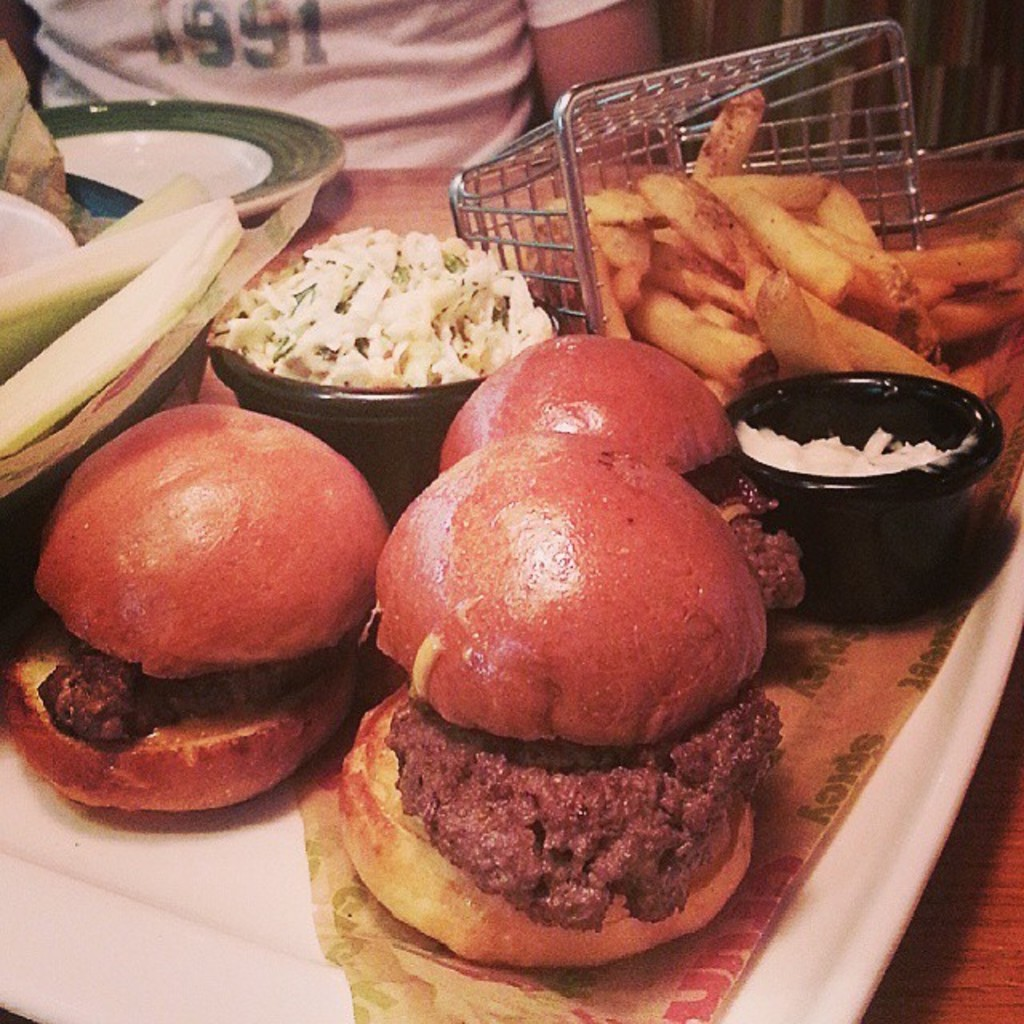French fries: (560, 129, 963, 393)
